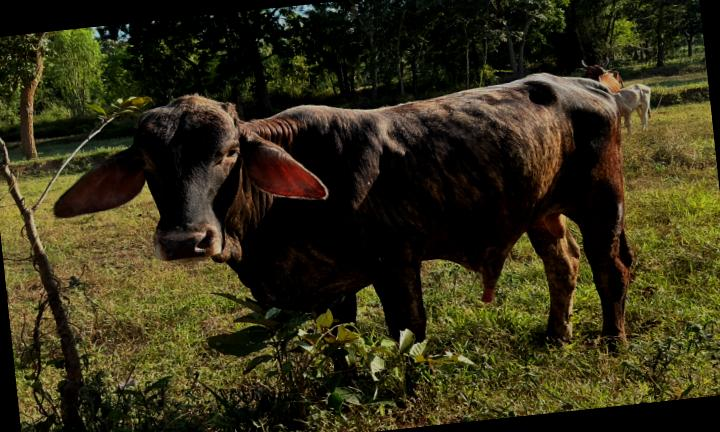Charolais: (54, 73, 633, 341)
